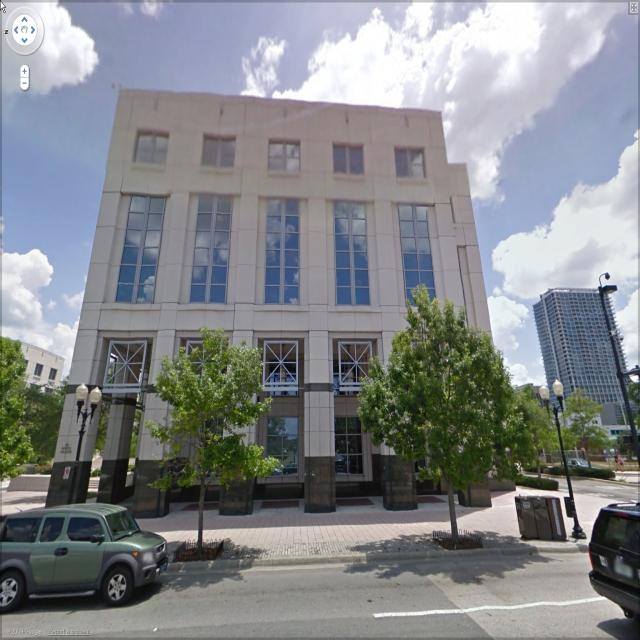window: (178, 192, 240, 305), (392, 205, 440, 316), (114, 198, 160, 303), (330, 198, 374, 303), (265, 194, 302, 309), (264, 137, 310, 179), (198, 133, 234, 170), (136, 128, 170, 166), (391, 146, 428, 180), (333, 144, 367, 176)
